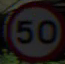Speed limit: (9, 3, 59, 55)
